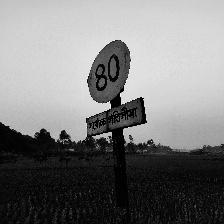Speed-limit: (85, 40, 146, 137)
